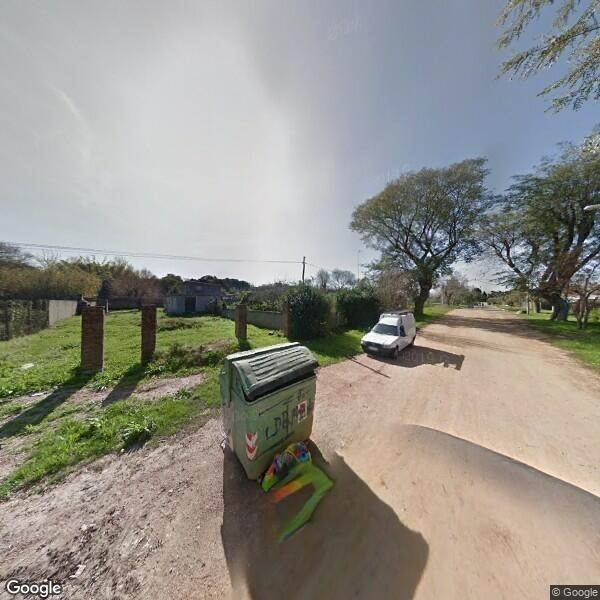Dechets: (272, 441, 314, 478)
Trash: (219, 338, 320, 490)
